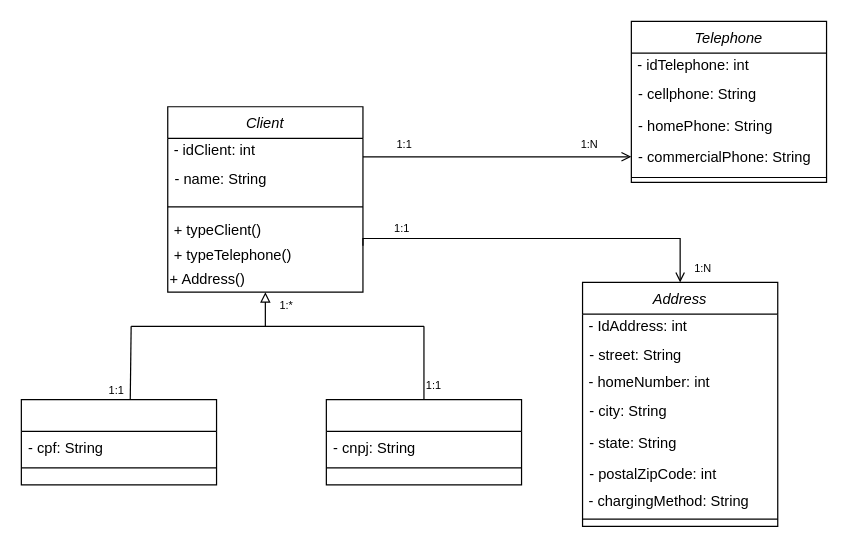
The diagram is 848 pixels wide and 548 high, and some of its shapes have lost their labels. Each missing label, with the box of its shape:
LegalEntity: (325, 398, 522, 485)
PhysicalPerson: (20, 398, 217, 485)
